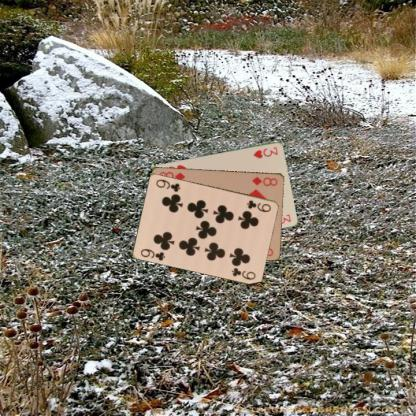3h: (251, 144, 279, 159)
8d: (250, 174, 279, 187)
9c: (138, 246, 166, 262), (245, 198, 272, 213)
